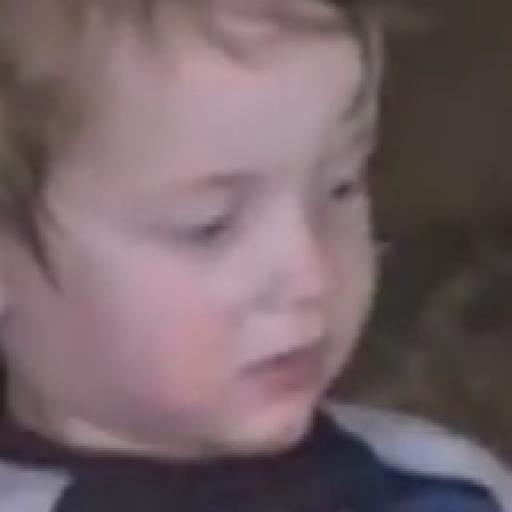Autism: (6, 9, 409, 491)
